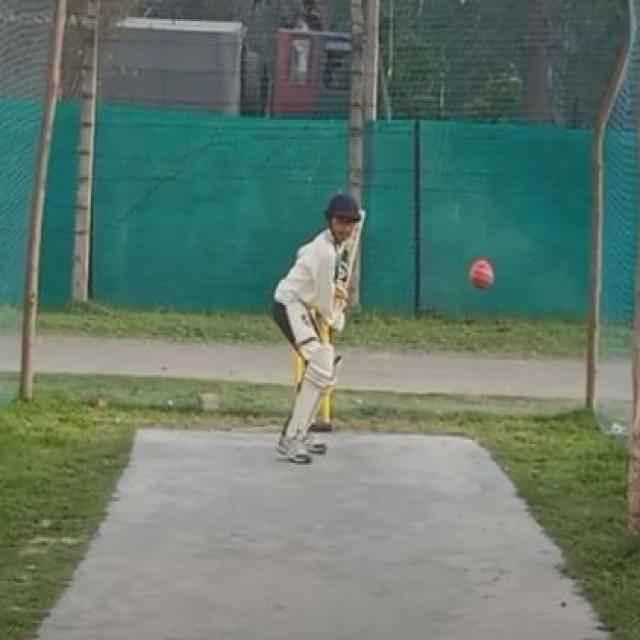ball: (461, 250, 498, 297)
